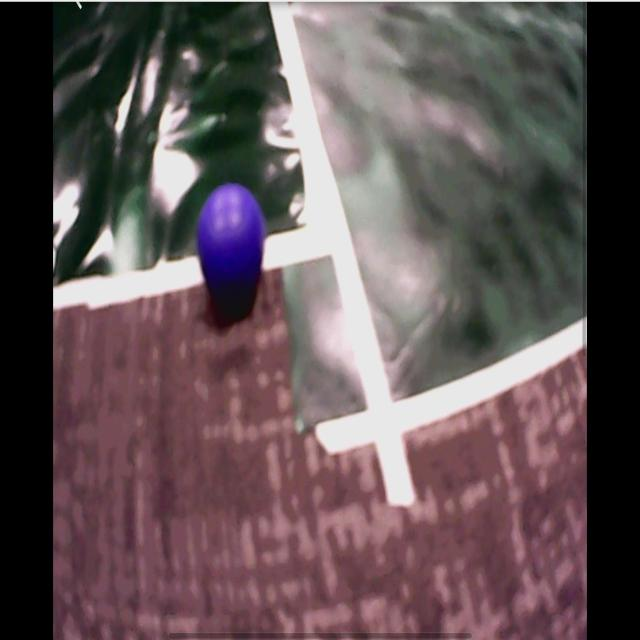ball: (196, 182, 264, 292)
